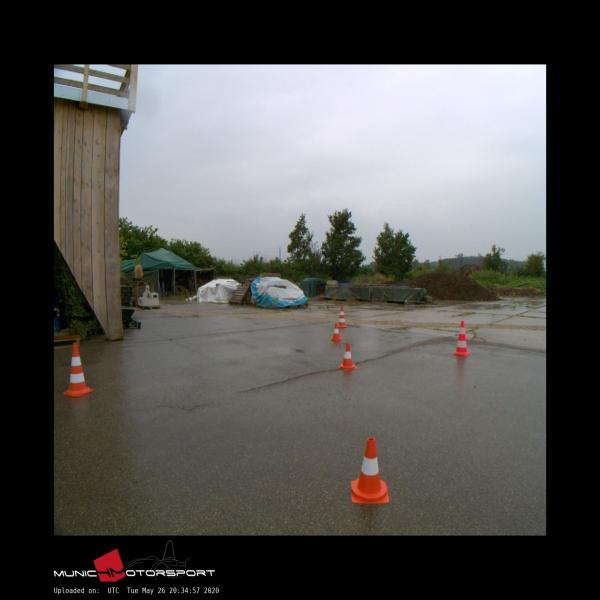large_orange_cone: (63, 342, 94, 397), (452, 320, 470, 356), (338, 305, 347, 327)
orange_cone: (351, 438, 389, 502), (338, 344, 357, 370), (330, 323, 342, 340)
